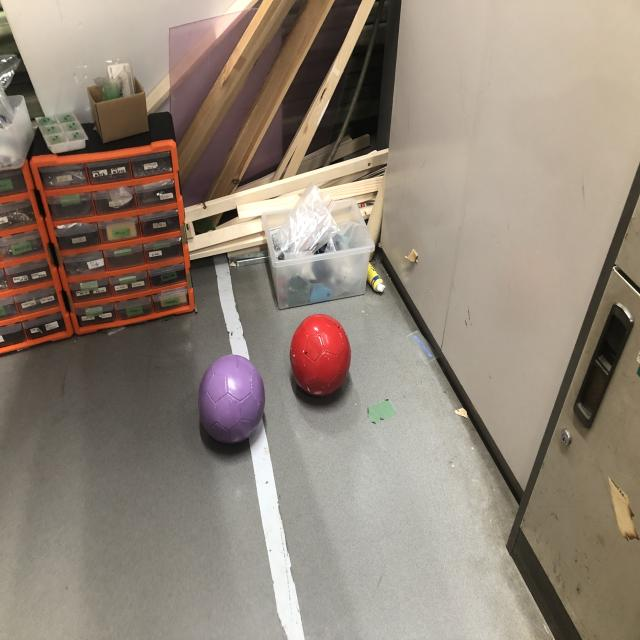purple_ball: (197, 356, 265, 444)
red_ball: (290, 316, 352, 398)
